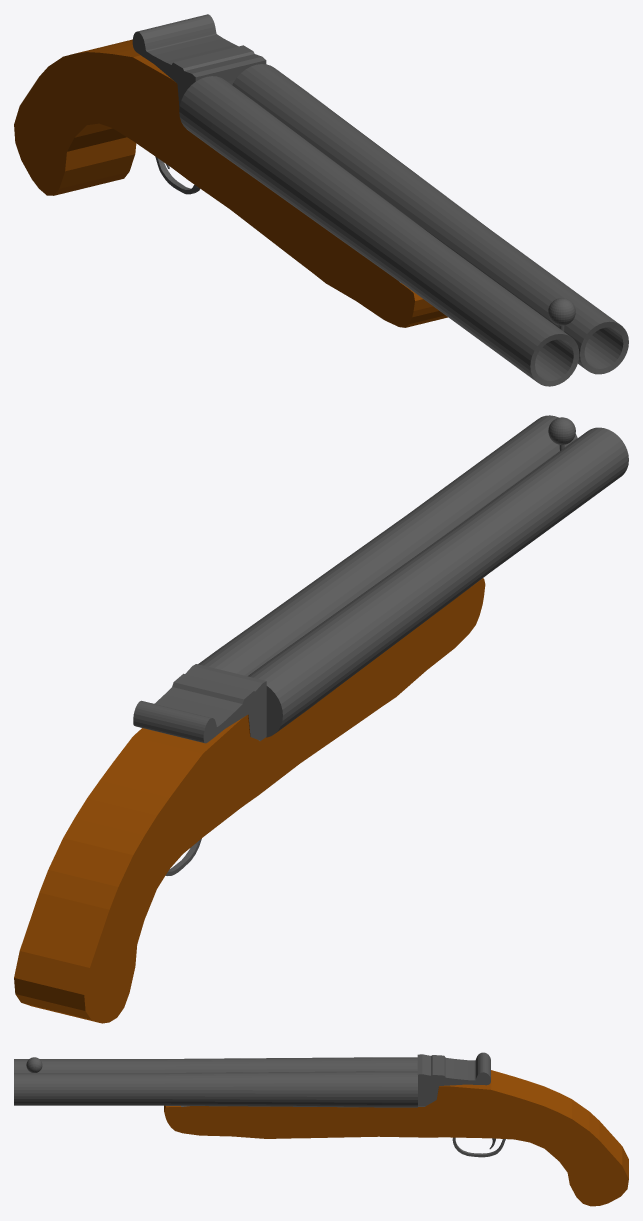
The model's file is DBShotgun.fbx.
3 views of the same model, one above another, from view 1: azimuth 30°, elevation 25°; view 2: azimuth 150°, elevation 25°; view 3: azimuth 270°, elevation 25° (orthographic). The views are drawn at different scales.
Visible parts, largest first — view 1: Shotgun; view 2: Shotgun; view 3: Shotgun.
Boxes of the visible parts, bbox=[...] form: Shotgun: bbox=[14, 14, 628, 386]; Shotgun: bbox=[14, 415, 628, 1023]; Shotgun: bbox=[14, 1052, 628, 1206].
Size of the model in its own units: 43.89 by 96.55 by 388.
